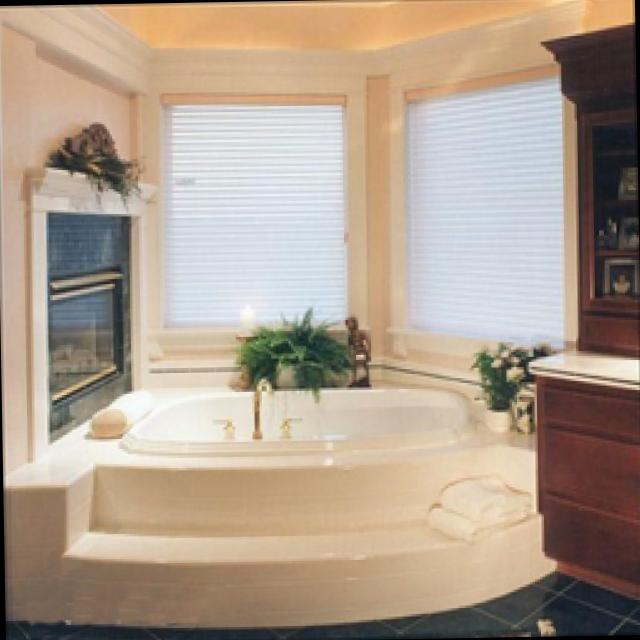2001: (401, 58, 563, 338), (156, 90, 345, 322)
bath occluded: (207, 379, 297, 436)
bathtub: (32, 379, 495, 534)
cabinet door: (526, 20, 637, 600)
ceiling beam: (97, 0, 538, 47)
fireplace mantle: (25, 165, 155, 453)
floor -X: (5, 571, 640, 638)
picture occluded: (601, 255, 632, 292), (615, 162, 633, 197), (611, 217, 636, 242)
plant -x: (231, 305, 353, 400), (45, 116, 145, 206), (468, 339, 538, 404)
soap bottle: (87, 406, 129, 434)
statue: (341, 312, 371, 384)
towel basket: (426, 474, 531, 543), (441, 480, 521, 520)
